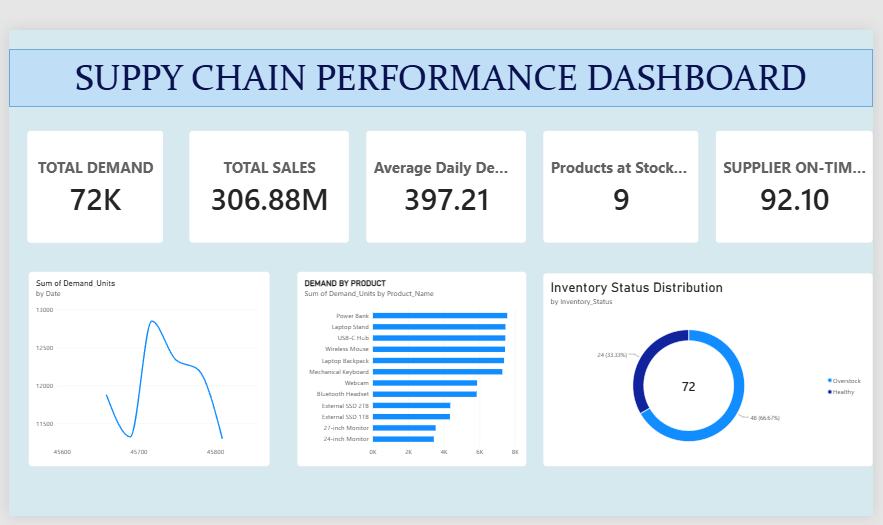

Layout of this report page (visuals, bound fields, positions):
{"tool":"powerbi","page":{"name":"Executive Overview","canvas":[1920,1080],"ordinal":0},"visuals":[{"type":"cardVisual","fields":{"Data":["Sum(Orders.Demand_Units)"]},"box":[40,223.3,303.3,250],"z":0},{"type":"cardVisual","fields":{"Data":["Sum(Orders.Sales_Value)"]},"box":[400,223.3,356.7,250],"z":1000},{"type":"cardVisual","fields":{"Data":["Orders.Average Daily Demand"]},"box":[793.3,223.3,356.7,250],"z":2000},{"type":"cardVisual","fields":{"Data":["Orders.High Risk Products"]},"box":[1186.7,223.3,346.7,250],"z":3000},{"type":"cardVisual","fields":{"Data":["Orders.Average On-Time Delivery %"]},"box":[1570,223.3,350,250],"z":4000},{"type":"lineChart","fields":{"Category":["Monthly_Demand.Date"],"Y":["Sum(Monthly_Demand.Demand_Units)"]},"box":[43.3,536.7,536.7,433.3],"z":5000},{"type":"clusteredBarChart","title":"DEMAND BY PRODUCT","fields":{"Category":["Monthly_Demand.Product_Name"],"Y":["Sum(Monthly_Demand.Demand_Units)"]},"box":[640,536.7,510,433.3],"z":6000},{"type":"donutChart","fields":{"Category":["Inventory.Inventory_Status"],"Y":["CountNonNull(Monthly_Demand.Product_ID)"]},"box":[1186.7,540,733.3,430],"z":7000},{"type":"textbox","box":[43,0,303,250],"z":8000},{"type":"shape","box":[0,43.3,1920,126.7],"z":9000}]}

Visuals, with their boxes on the page's 1920x1080 design canvas (x1, y1, x2, y2). These are canvas units, not pixel positions in the 883x525 screenshot, which may show the page scaled, cropped or inside an application window:
cardVisual - Sum(Orders.Demand_Units): bbox=[40, 223, 343, 473]
cardVisual - Sum(Orders.Sales_Value): bbox=[400, 223, 757, 473]
cardVisual - Orders.Average Daily Demand: bbox=[793, 223, 1150, 473]
cardVisual - Orders.High Risk Products: bbox=[1187, 223, 1533, 473]
cardVisual - Orders.Average On-Time Delivery %: bbox=[1570, 223, 1920, 473]
lineChart - Monthly_Demand.Date x Sum(Monthly_Demand.Demand_Units): bbox=[43, 537, 580, 970]
"DEMAND BY PRODUCT" clusteredBarChart: bbox=[640, 537, 1150, 970]
donutChart - Inventory.Inventory_Status x CountNonNull(Monthly_Demand.Product_ID): bbox=[1187, 540, 1920, 970]
textbox: bbox=[43, 0, 346, 250]
shape: bbox=[0, 43, 1920, 170]
